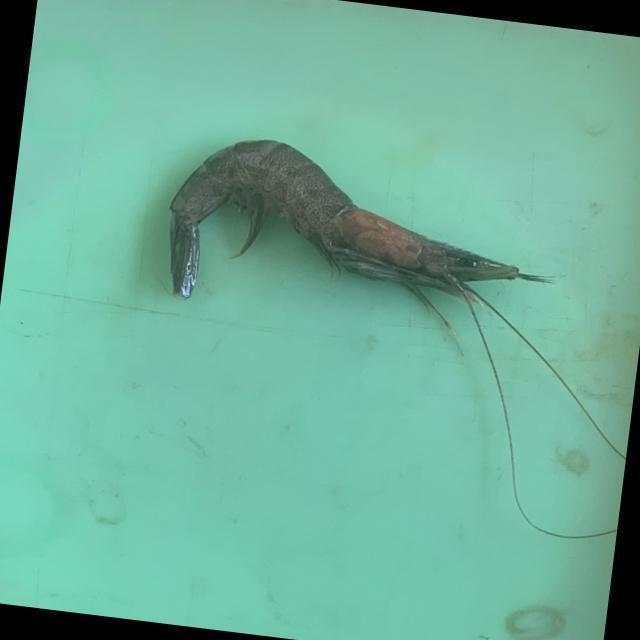shrimp: (169, 139, 548, 296)
